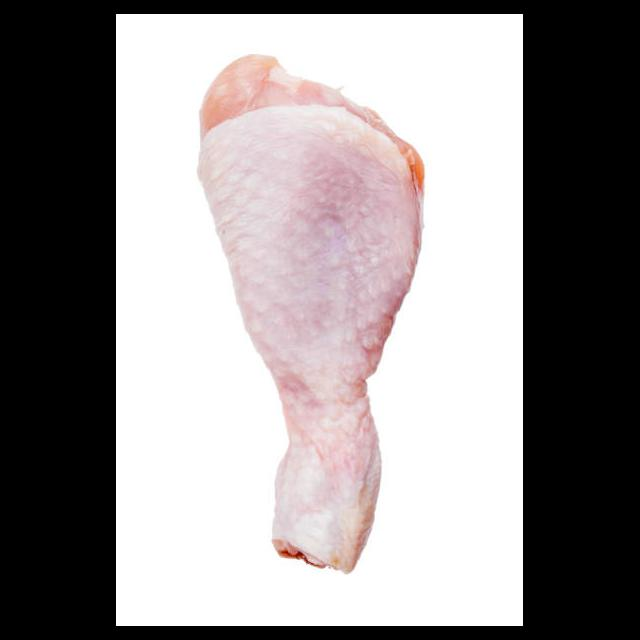chicken: (198, 55, 426, 574)
